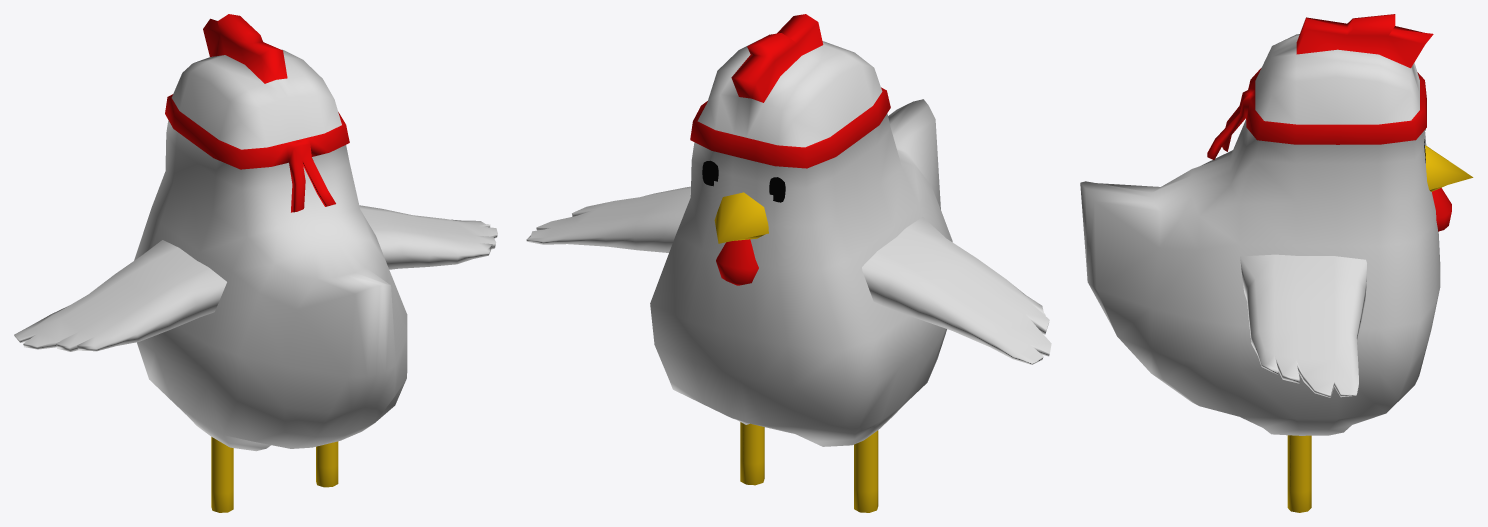
Rendered from chicken.fbx.
3 renders of one model, left to right at view 1: azimuth 30°, elevation 25°; view 2: azimuth 150°, elevation 25°; view 3: azimuth 270°, elevation 25°, orthographic. The views are drawn at different scales.
Visible parts, largest first — view 1: chicken, chicken_wing, legs; view 2: chicken, chicken_wing, legs, beak, chicken_ball_sack, eyes; view 3: chicken, chicken_wing, legs, beak, chicken_ball_sack.
Part boxes in pixels (left/top/right/bottom): chicken: left=134, top=14, right=407, bottom=451; chicken_wing: left=14, top=205, right=497, bottom=351; legs: left=211, top=437, right=338, bottom=512; chicken: left=650, top=14, right=952, bottom=446; chicken_wing: left=526, top=186, right=1051, bottom=364; legs: left=740, top=422, right=878, bottom=512; beak: left=714, top=192, right=768, bottom=243; chicken_ball_sack: left=716, top=239, right=758, bottom=285; eyes: left=702, top=160, right=785, bottom=202; chicken: left=1080, top=14, right=1440, bottom=435; chicken_wing: left=1240, top=254, right=1366, bottom=397; legs: left=1287, top=435, right=1311, bottom=512; beak: left=1425, top=145, right=1473, bottom=191; chicken_ball_sack: left=1432, top=187, right=1451, bottom=231.
Bounding box in the file's own units: 101 × 91.61 × 70.06.
